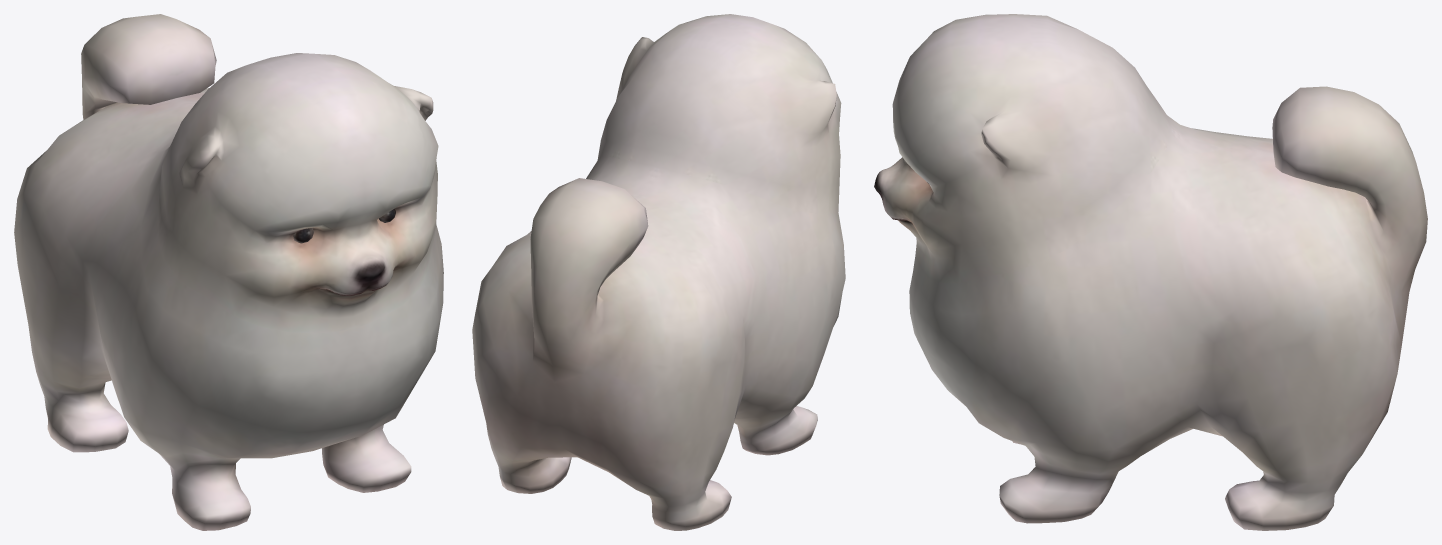
Rendered from Dog1_sample.fbx.
3 views of the same model, side by side, from view 1: azimuth 30°, elevation 25°; view 2: azimuth 150°, elevation 25°; view 3: azimuth 270°, elevation 25° (orthographic). The views are drawn at different scales.
Visible parts, largest first — view 1: Final_White_Dog1; view 2: Final_White_Dog1; view 3: Final_White_Dog1.
Boxes of the visible parts, left/top/right/bottom form: Final_White_Dog1: left=14, top=14, right=443, bottom=530; Final_White_Dog1: left=472, top=14, right=845, bottom=530; Final_White_Dog1: left=874, top=14, right=1427, bottom=530.
Size of the model in its own units: 28.73 by 41.08 by 46.52.
